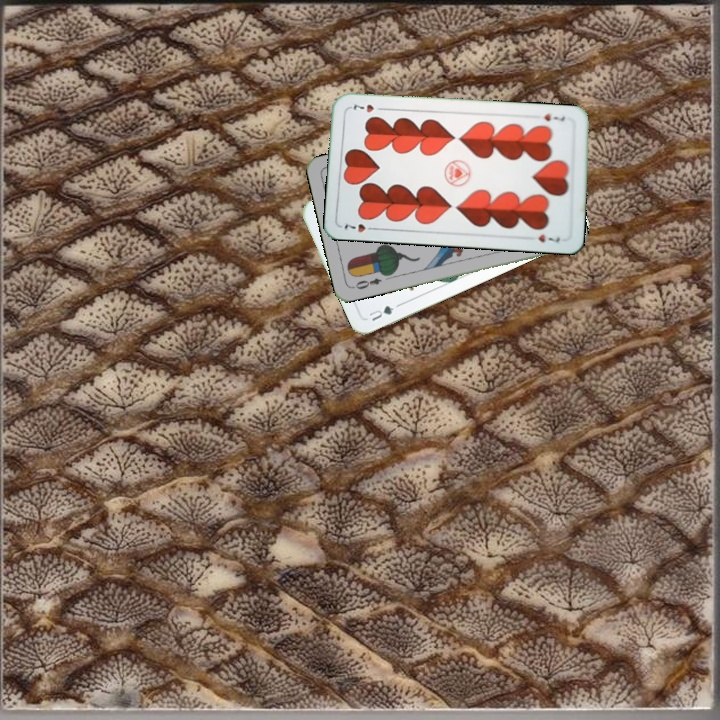EO: (349, 274, 384, 292)
GU: (365, 301, 397, 324)
H7: (340, 220, 379, 235), (540, 110, 568, 124)
